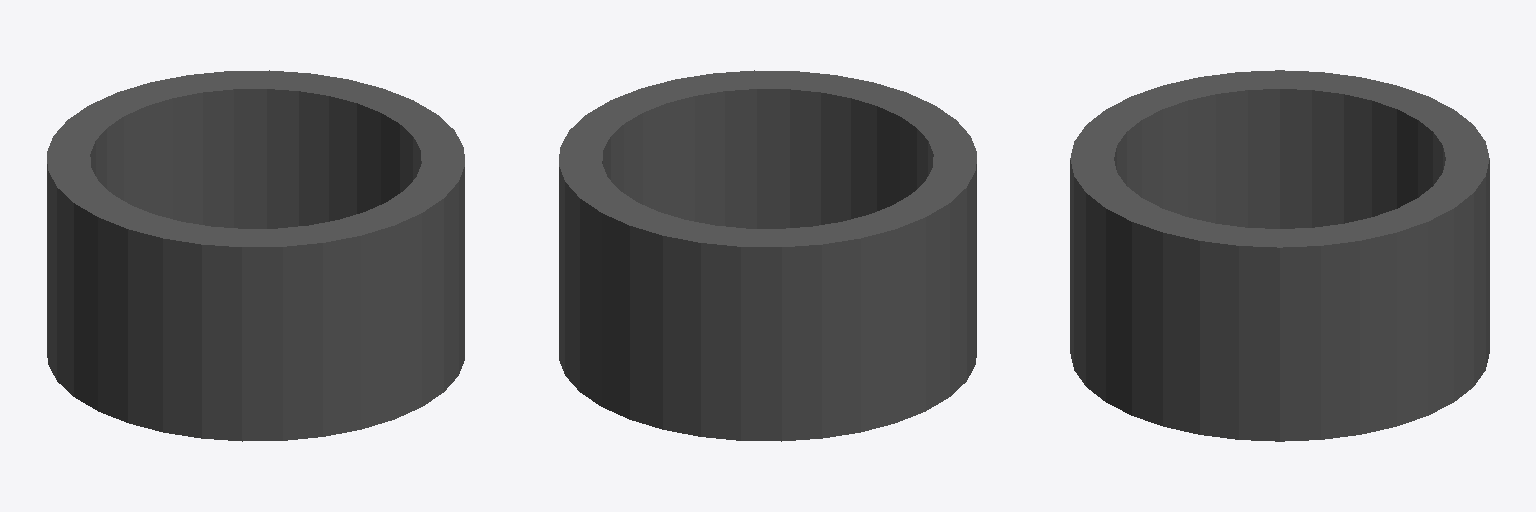
The model's file is scotch_duct_tape.obj.
3 renders of one model, left to right at view 1: azimuth 30°, elevation 25°; view 2: azimuth 150°, elevation 25°; view 3: azimuth 270°, elevation 25°, orthographic.
Bounding box in the file's own units: 0.096 × 0.049 × 0.096.